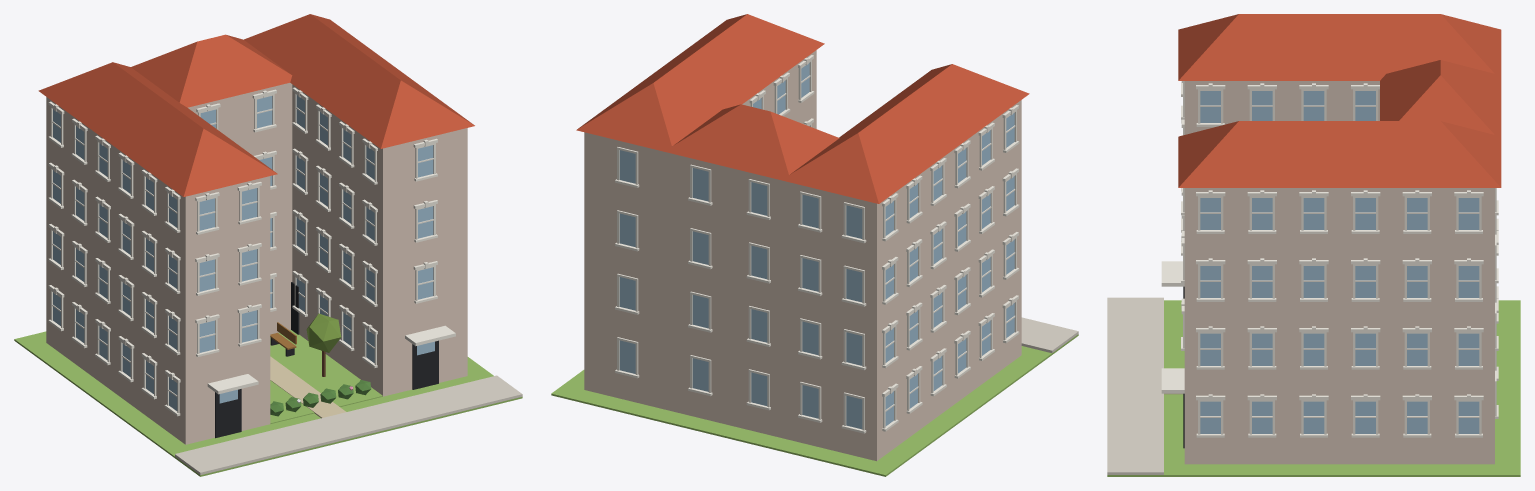
The model's file is Konut_avlulu_blok_2_Hafif.fbx.
3 views of the same model, side by side, from view 1: azimuth 30°, elevation 25°; view 2: azimuth 150°, elevation 25°; view 3: azimuth 270°, elevation 25° (orthographic). The views are drawn at different scales.
Parts seen in each view (by area): view 1: Konut_avlulu_blok_2_Hafif; view 2: Konut_avlulu_blok_2_Hafif; view 3: Konut_avlulu_blok_2_Hafif.
Boxes of the visible parts, x1,y1,x2,y2 form: Konut_avlulu_blok_2_Hafif: [14, 14, 522, 476]; Konut_avlulu_blok_2_Hafif: [551, 14, 1078, 476]; Konut_avlulu_blok_2_Hafif: [1107, 14, 1520, 476].
Bounding box in the file's own units: 16 × 13.76 × 16.
